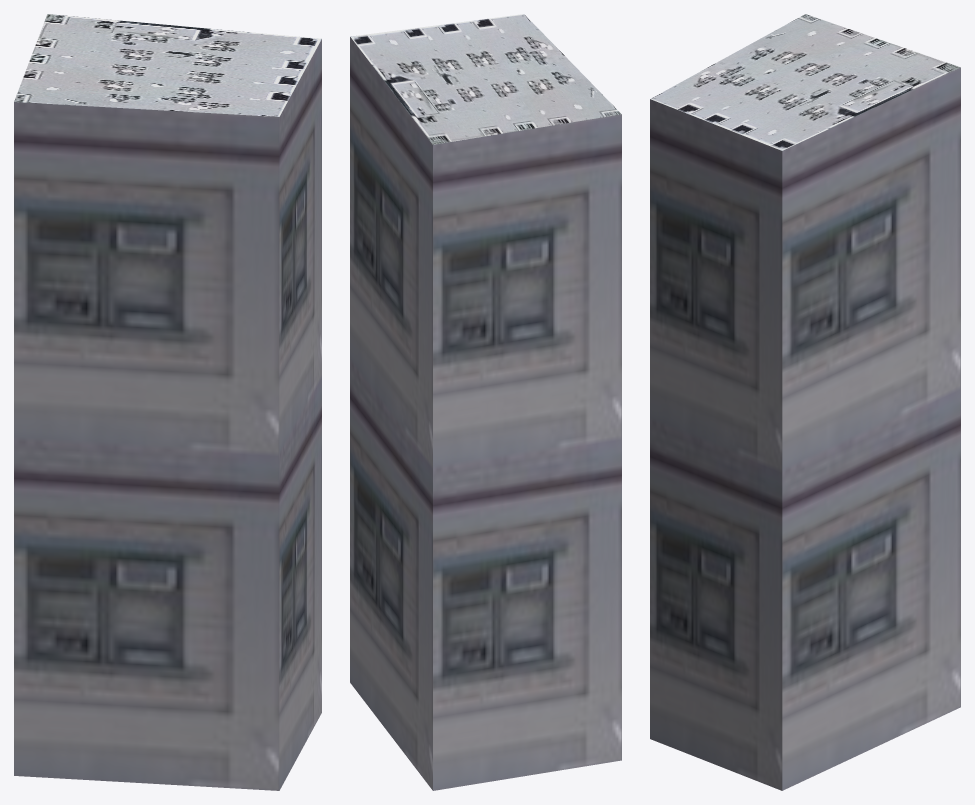
Rendered from ResTex__1731.fbx.
The picture shows the model from 3 angles, left to right: view 1: azimuth 30°, elevation 25°; view 2: azimuth 150°, elevation 25°; view 3: azimuth 270°, elevation 25°; orthographic projection. The views are drawn at different scales.
Visible parts, largest first — view 1: CityEngineMaterial_1_m, CityEngineMaterial_m; view 2: CityEngineMaterial_1_m, CityEngineMaterial_m; view 3: CityEngineMaterial_1_m, CityEngineMaterial_m.
Boxes of the visible parts, x1,y1,x2,y2 form: CityEngineMaterial_1_m: [14, 39, 321, 790]; CityEngineMaterial_m: [14, 14, 321, 116]; CityEngineMaterial_1_m: [350, 37, 621, 790]; CityEngineMaterial_m: [350, 14, 621, 144]; CityEngineMaterial_1_m: [650, 67, 960, 790]; CityEngineMaterial_m: [650, 14, 960, 150].
Size of the model in its own units: 2.75 by 6 by 2.64.
Materials: 2 (2 with a texture image).
